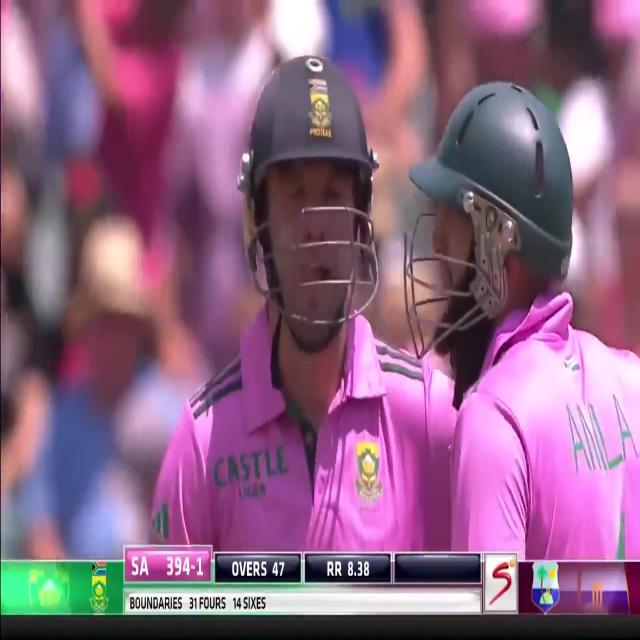Ball: (141, 46, 384, 555), (401, 92, 640, 559)
